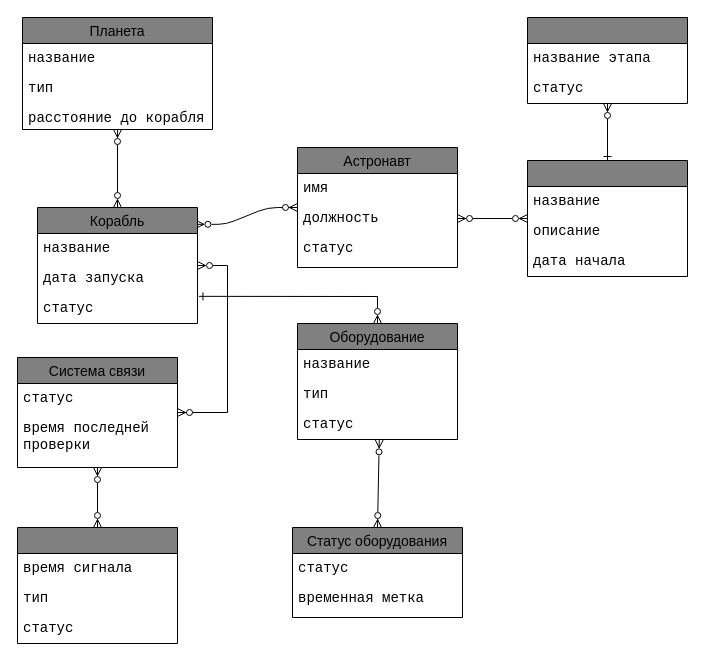
Some shapes in this 705 by 664 pixel diagram are drawn without their labels. Each missing label, with the box of its shape:
Миссия: (526, 160, 688, 276)
сигнал тревоги: (16, 526, 178, 644)
Этап миссии: (526, 16, 688, 104)
